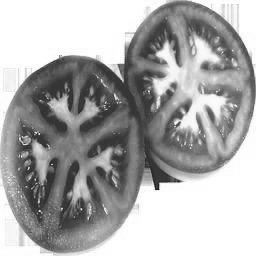bukan telur: (0, 53, 141, 255), (125, 0, 255, 176)
